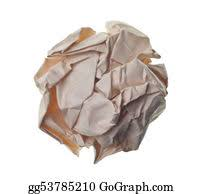crumpled paper: (33, 19, 166, 163)
